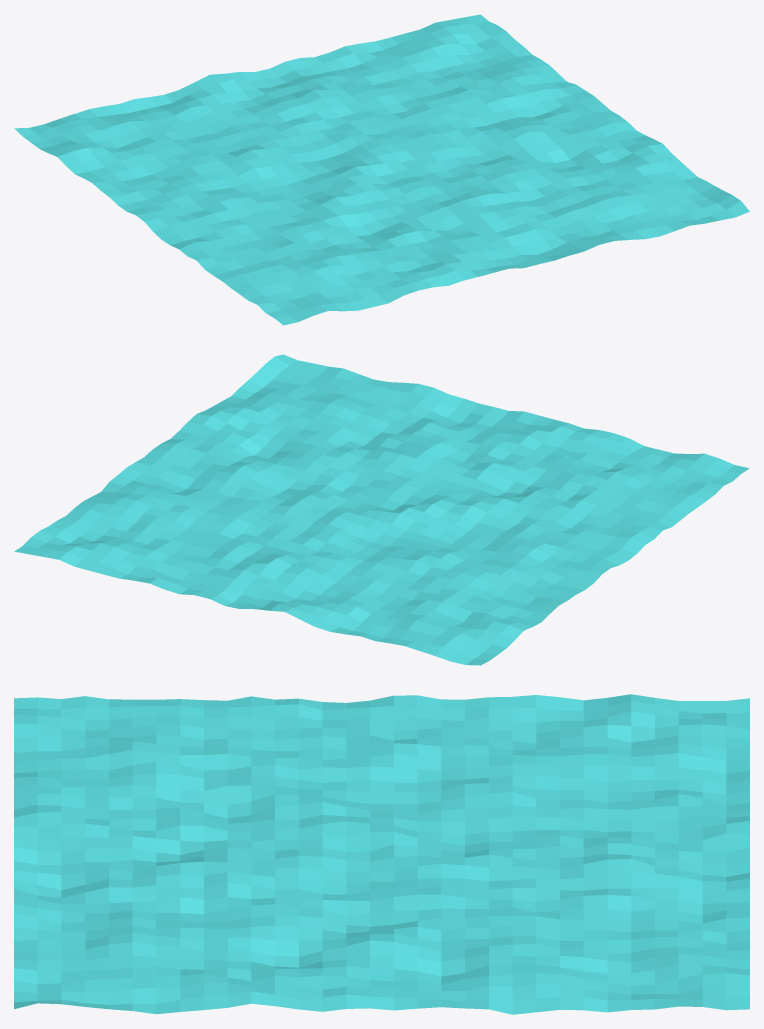
Rendered from FlowingSee.fbx.
3 views of the same model, one above another, from view 1: azimuth 30°, elevation 25°; view 2: azimuth 150°, elevation 25°; view 3: azimuth 270°, elevation 25° (orthographic). The views are drawn at different scales.
Visible parts, largest first — view 1: Plane; view 2: Plane; view 3: Plane.
Part boxes in pixels (x1,y1,x2,y2): Plane: (14, 14, 749, 325); Plane: (14, 354, 749, 665); Plane: (14, 694, 749, 1014).
Bounding box in the file's own units: 1558 × 50.06 × 1558.
